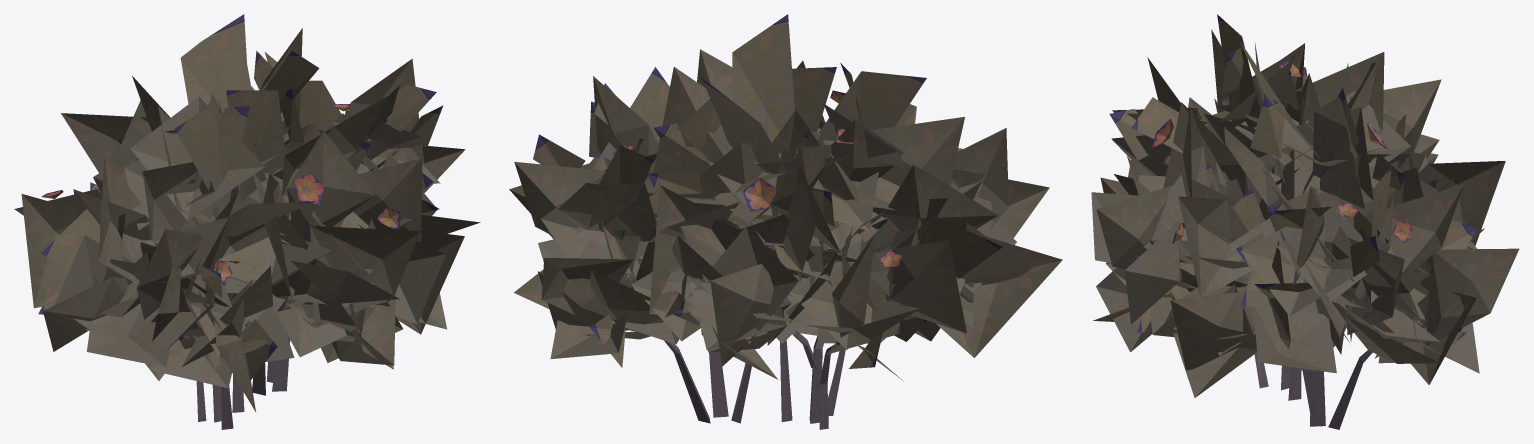
The model's file is P_YueDong04.obj.
3 views of the same model, side by side, from view 1: azimuth 30°, elevation 25°; view 2: azimuth 150°, elevation 25°; view 3: azimuth 270°, elevation 25° (orthographic).
Size of the model in its own units: 3.25 by 2.4 by 2.48.
Materials: 1 (1 with a texture image).
